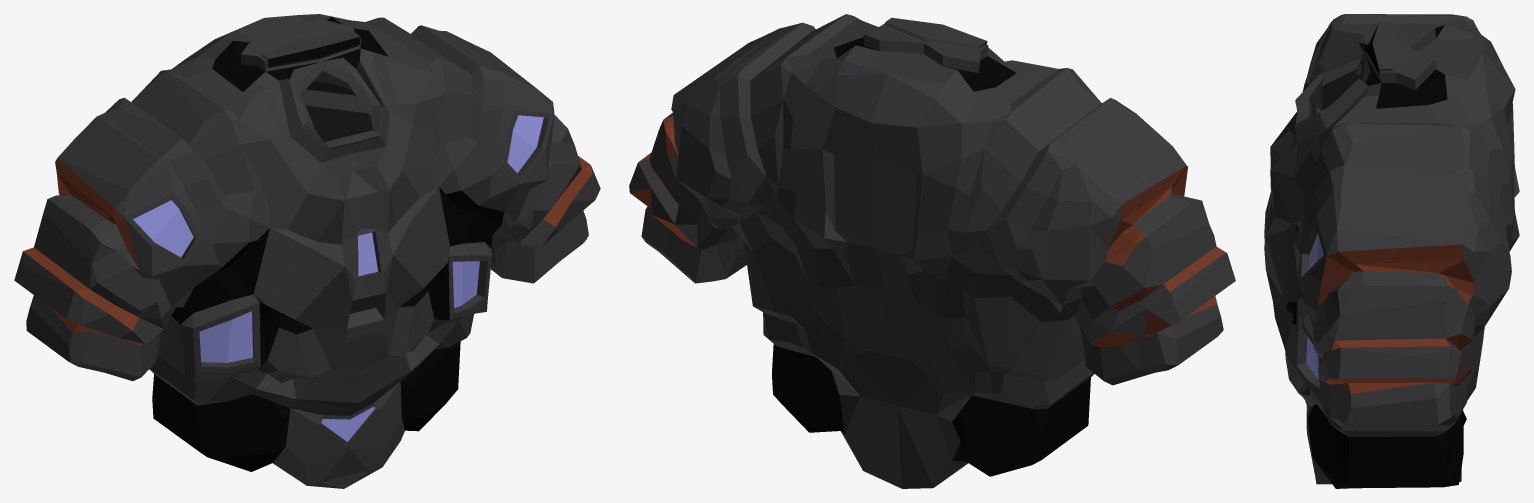
Rendered from Ollo With Materials.fbx.
3 views of the same model, side by side, from view 1: azimuth 30°, elevation 25°; view 2: azimuth 150°, elevation 25°; view 3: azimuth 270°, elevation 25° (orthographic). The views are drawn at different scales.
Visible parts, largest first — view 1: Ollo.001, Plane; view 2: Ollo.001; view 3: Ollo.001.
Boxes of the visible parts, box(x1,y1,x2,y2) form: Ollo.001: box(14, 14, 600, 488); Plane: box(302, 78, 372, 141); Ollo.001: box(629, 14, 1235, 488); Ollo.001: box(1264, 14, 1519, 488).
Size of the model in its own units: 2.01 by 1.52 by 0.8058.
